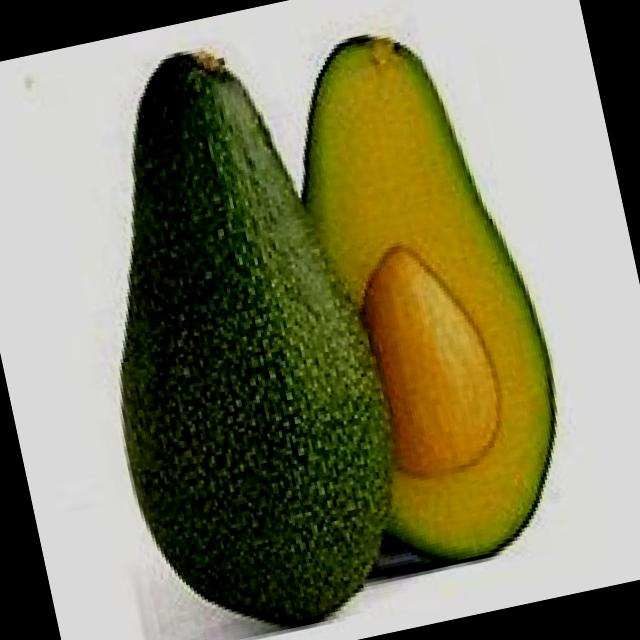avocado: (53, 41, 416, 640), (268, 14, 601, 606)
